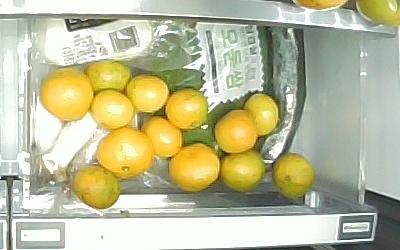tangerine: (38, 67, 92, 123), (96, 127, 152, 180), (167, 141, 219, 192), (69, 164, 121, 211), (214, 106, 258, 154), (272, 151, 314, 201), (220, 151, 266, 193), (91, 88, 134, 132), (165, 89, 209, 129), (140, 116, 182, 157), (126, 74, 168, 114), (243, 92, 280, 136), (83, 61, 131, 94)
